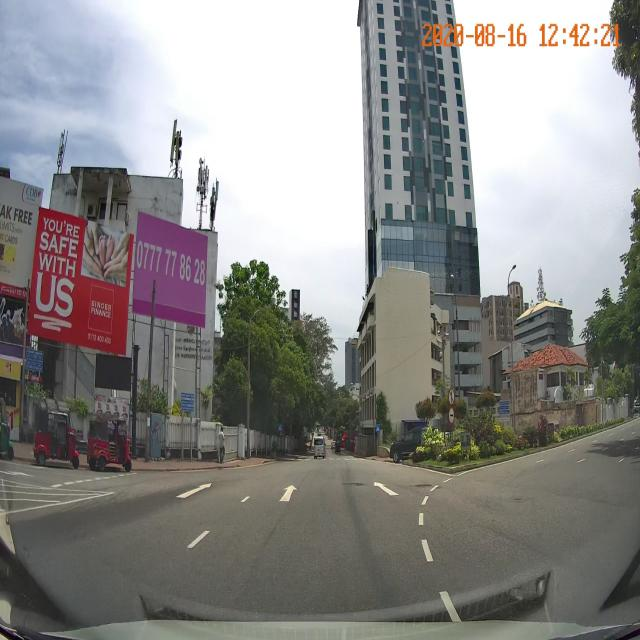Strelka vpered: (176, 483, 212, 499), (374, 482, 399, 496), (279, 484, 298, 501)
